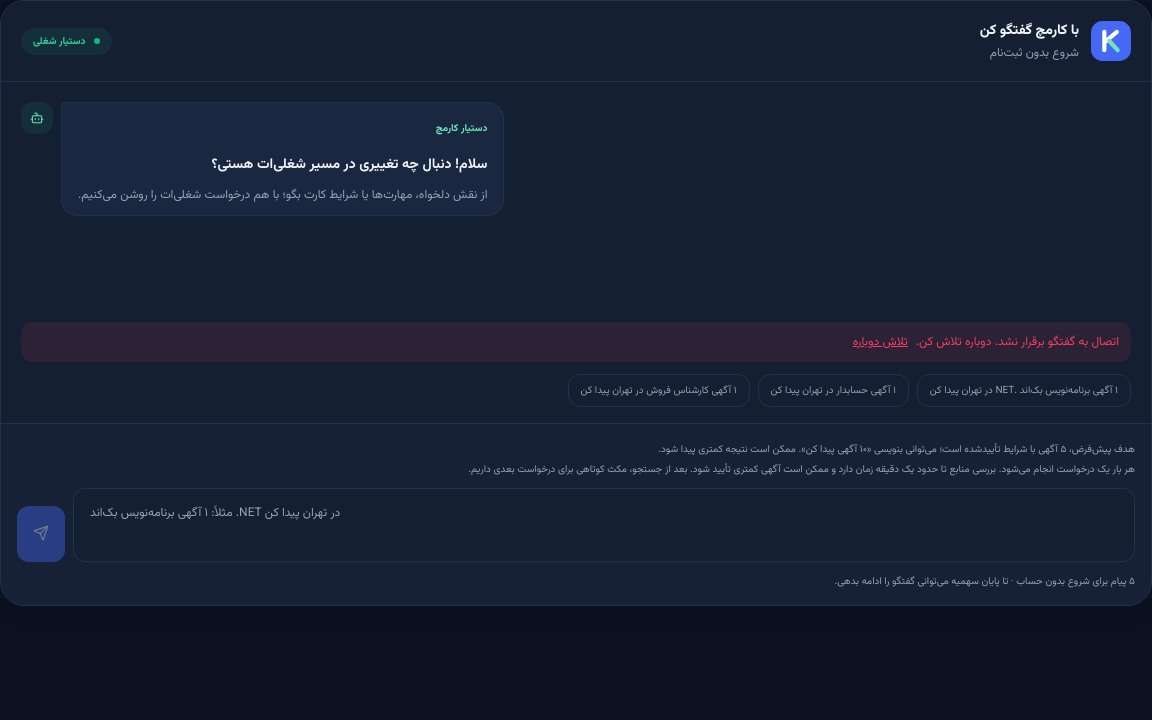
Guest conversation › offers a retry when initial connection fails
This screenshot has width=1152, height=720.
Check: the message "اتصال به گفتگو برقرار نشد. دوباره تلاش کن. تلاش دوباره" is shown, box [21, 322, 1131, 362]
Click the button "تلاش دوباره": (880, 342) [853, 334, 908, 350]
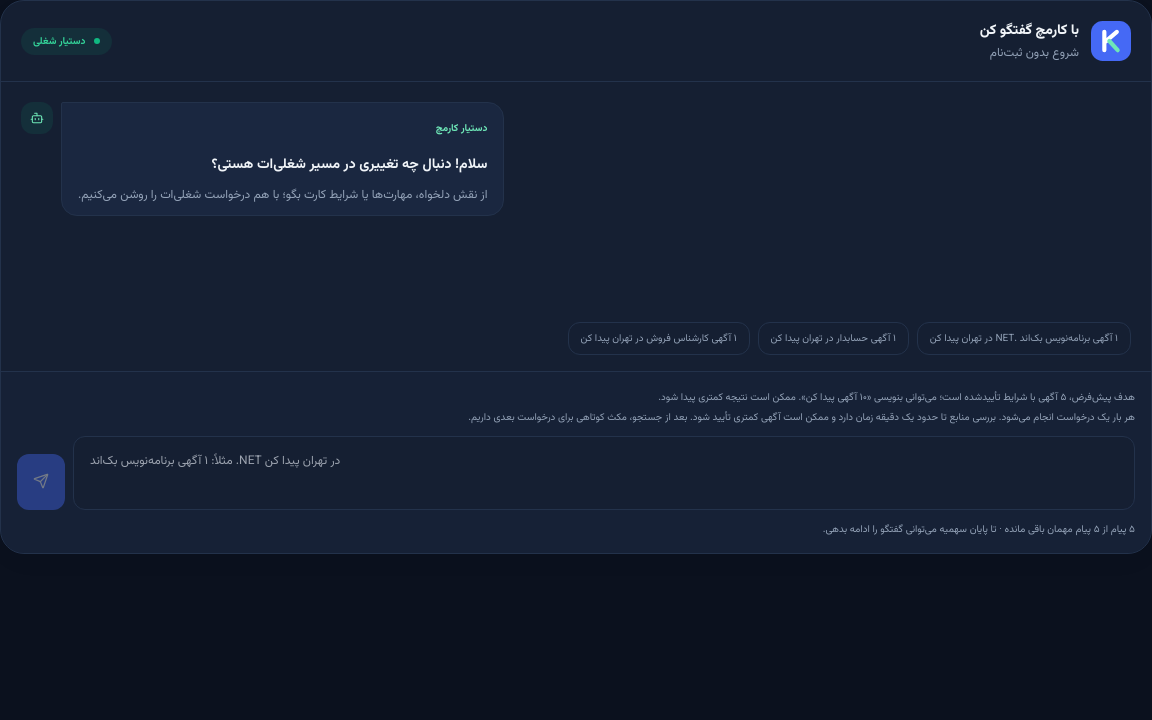
Check: the message "اتصال به گفتگو برقرار نشد. دوباره تلاش کن. تلاش دوباره" is gone
